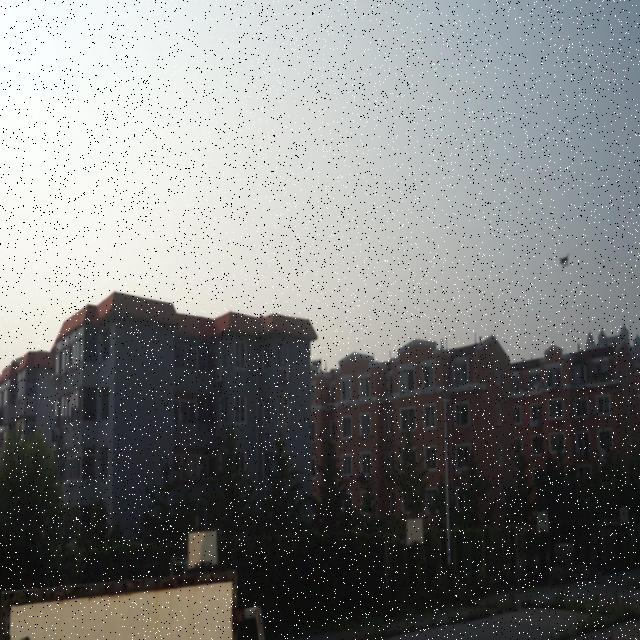UAV: (558, 254, 570, 269)
